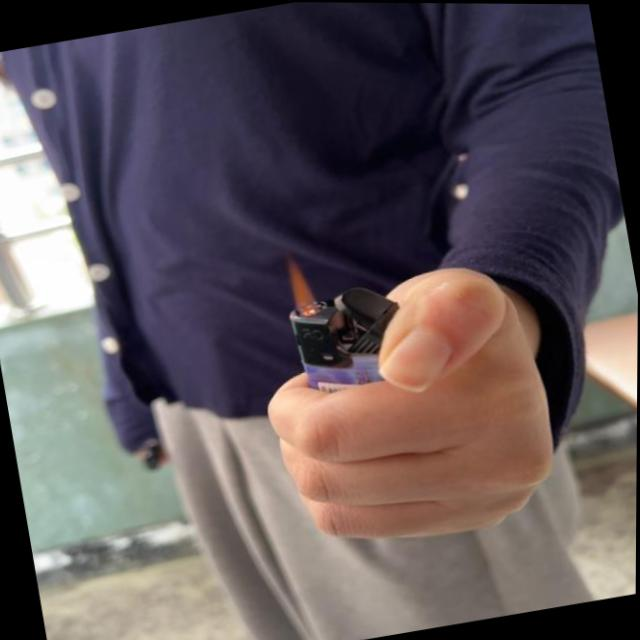Fire: (284, 251, 321, 320)
